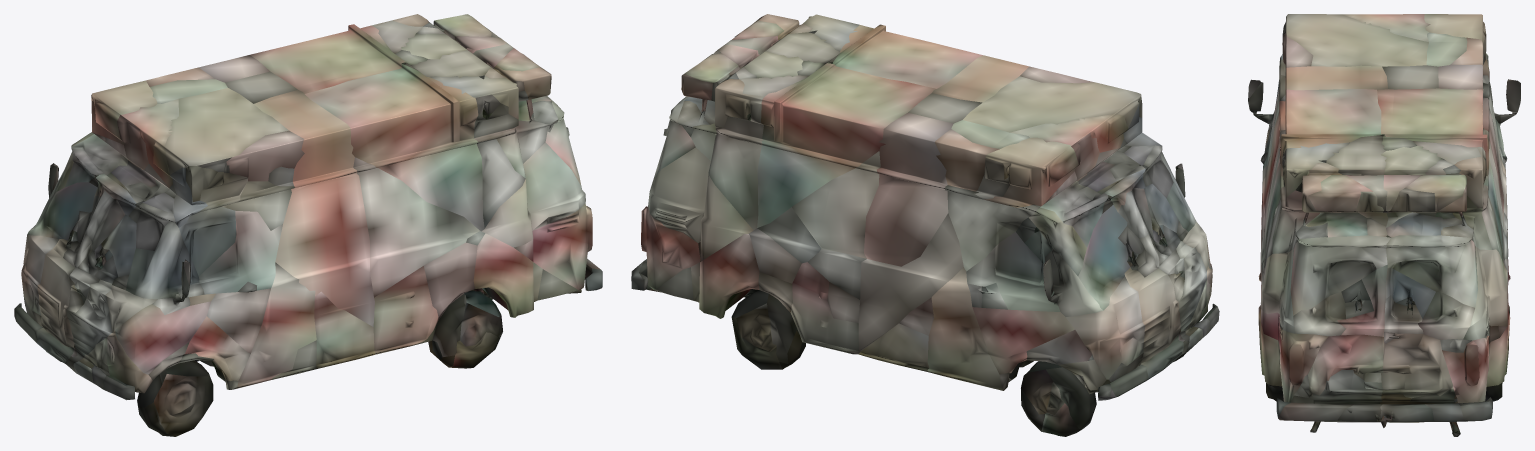
File: car_ambulance_light_q1.glb
3 renders of one model, left to right at view 1: azimuth 30°, elevation 25°; view 2: azimuth 150°, elevation 25°; view 3: azimuth 270°, elevation 25°, orthographic. The views are drawn at different scales.
Size of the model in its own units: 5.21 by 2.6 by 2.47.
1 material, 1 textured.
